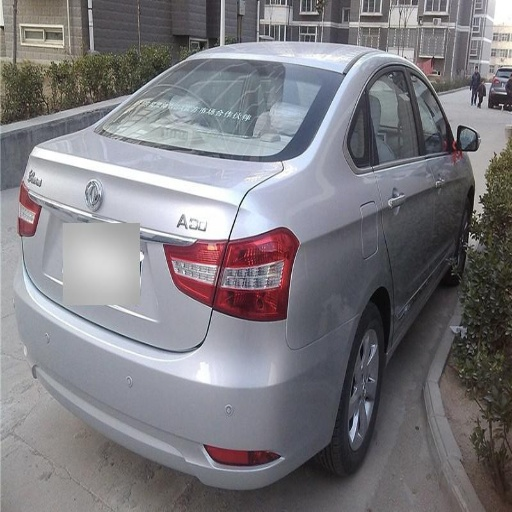back_bumper: (19, 246, 360, 489)
back_right_door: (347, 63, 434, 318)
tailgate: (21, 125, 277, 345)
trunk: (206, 280, 322, 347)
